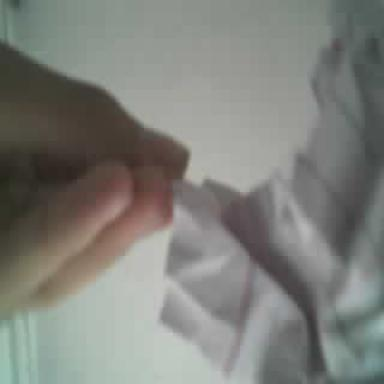paper: (161, 0, 383, 382)
